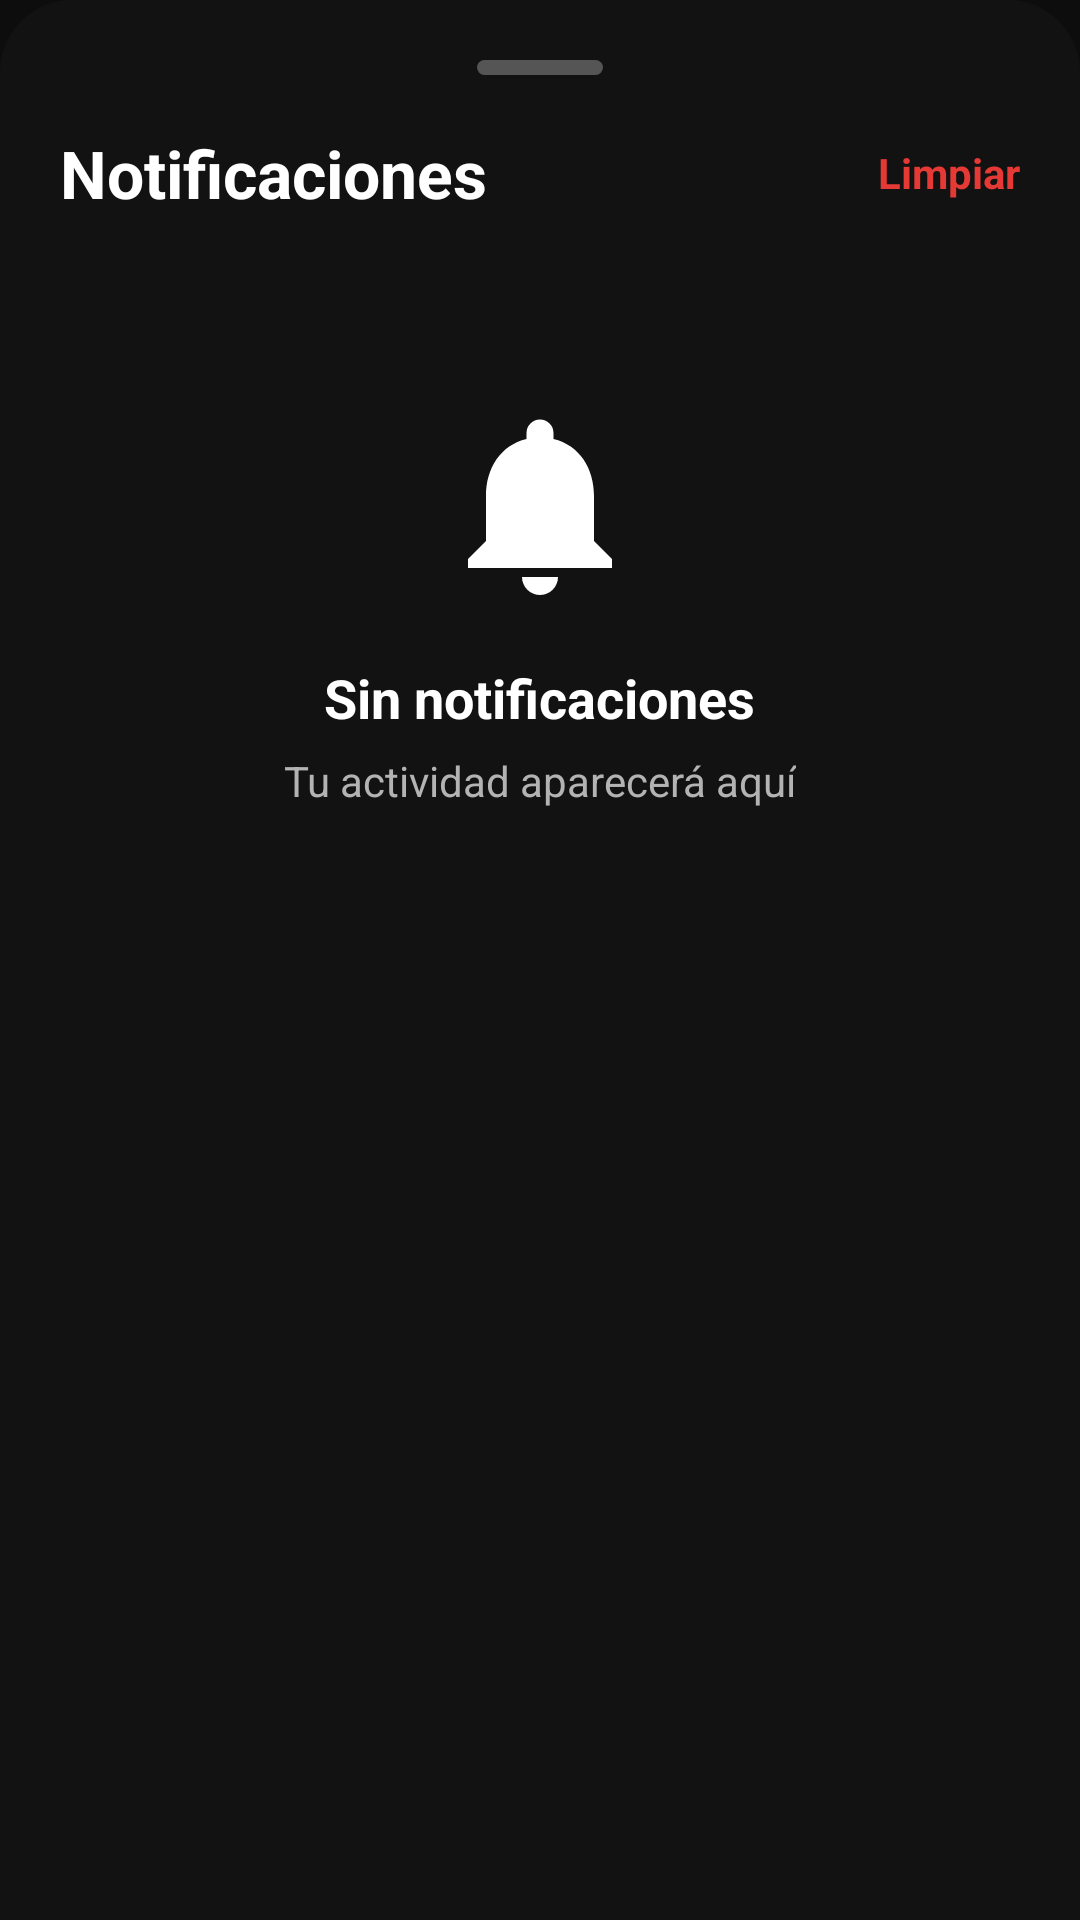

Screen size 1080*1920. Icon name, then its box in pixels as (x1, y1, x2, y2):
notifications: (468, 419, 612, 595)
